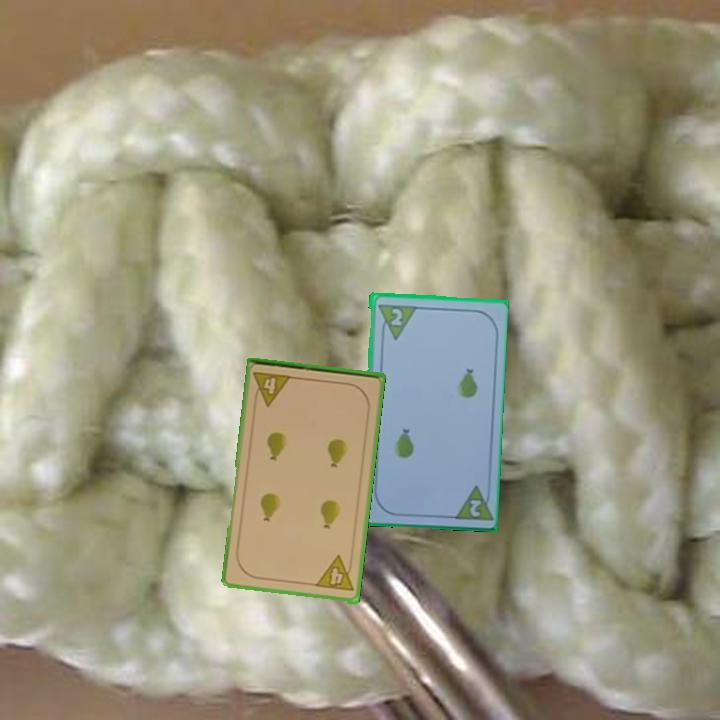2p: (449, 481, 493, 523), (387, 304, 405, 328)
4p: (312, 553, 356, 595), (250, 368, 294, 409)
